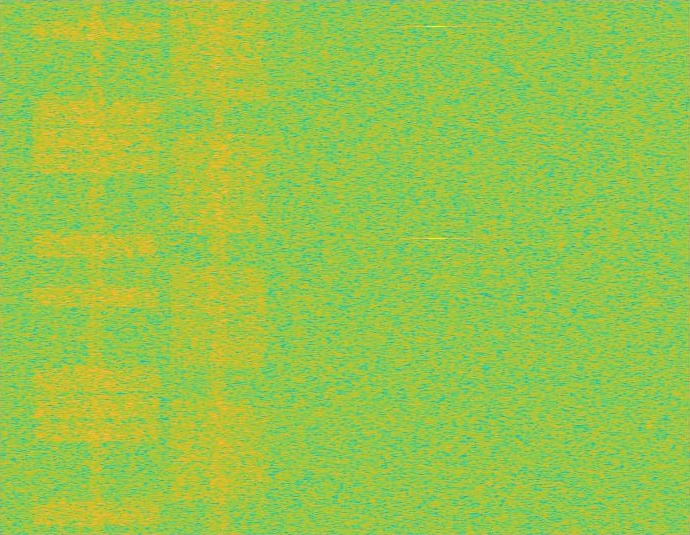5G: (167, 0, 271, 534)
DSSS: (207, 0, 231, 534), (87, 0, 106, 534)
LTE: (27, 0, 165, 534)
Radar: (429, 0, 443, 534)
